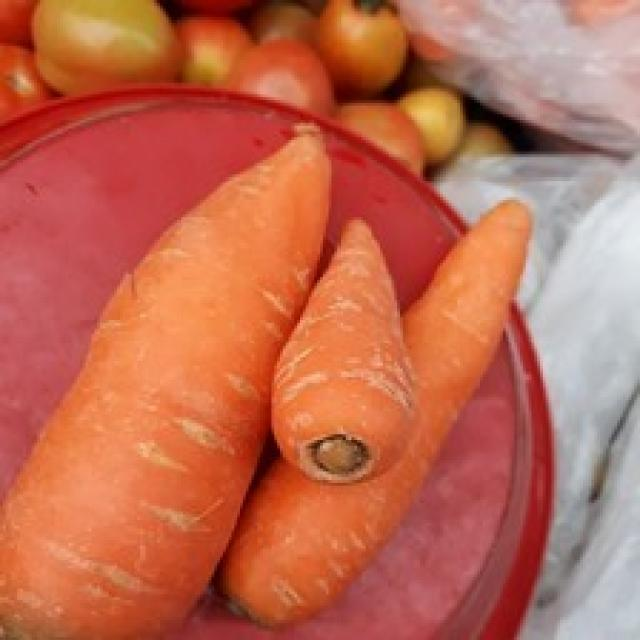Fresh_Carrot: (6, 148, 281, 631)
